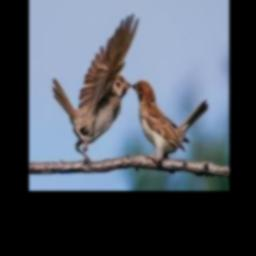Sparrow: (52, 15, 139, 162), (133, 80, 209, 166)
